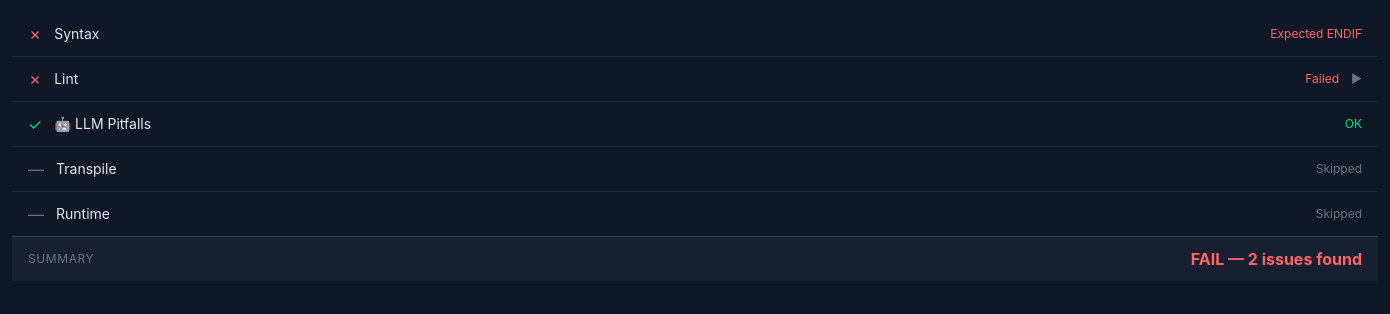
Test: the Validator issue list › still prints the position of an ordinary issue
This screenshot has width=1390, height=314.
Click the button "✗ Lint Failed ▶" at (1322, 78), box [12,57,1378,101]
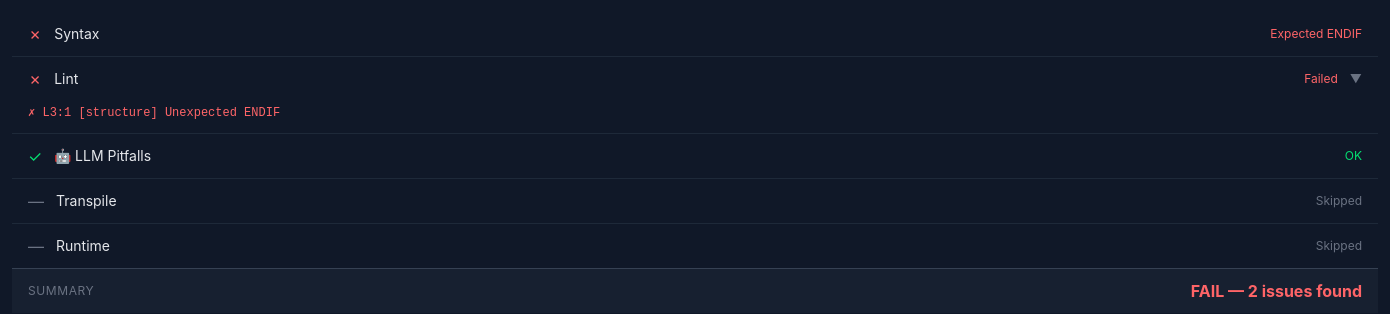
Now the list item "✗ L3:1 [structure] Unexpected ENDIF" is shown, box [28,106,280,120]
